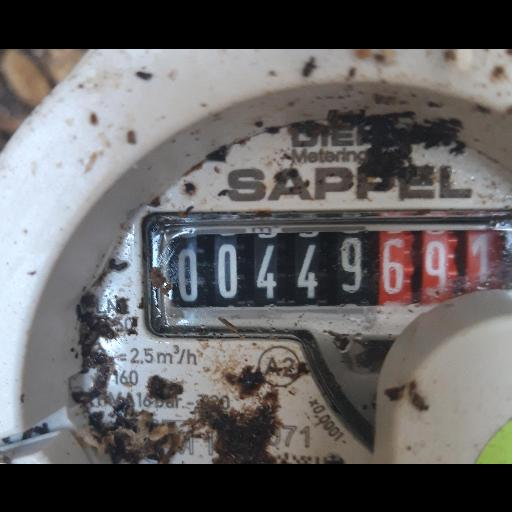0: (202, 233, 246, 307), (166, 235, 205, 308)
1: (462, 229, 496, 295)
4: (245, 232, 288, 306), (286, 231, 324, 306)
6: (375, 230, 413, 303)
9: (324, 230, 374, 305), (419, 230, 458, 301)
border_water_meter_number: (142, 211, 511, 338)
